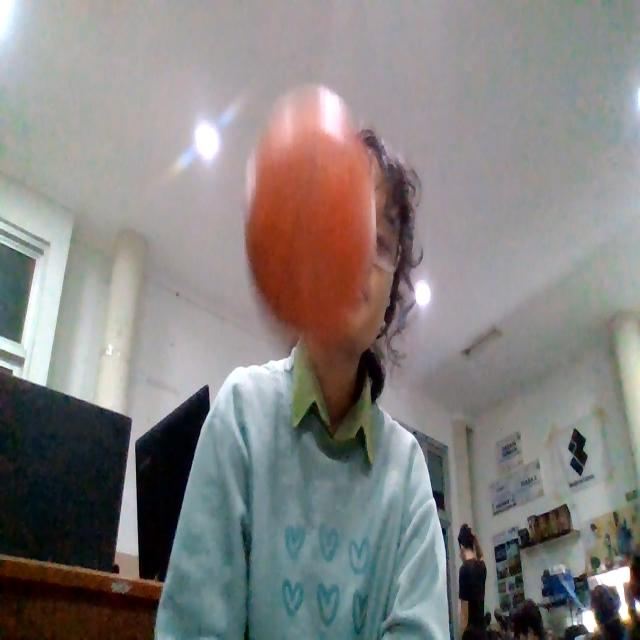ball: (246, 101, 373, 329)
